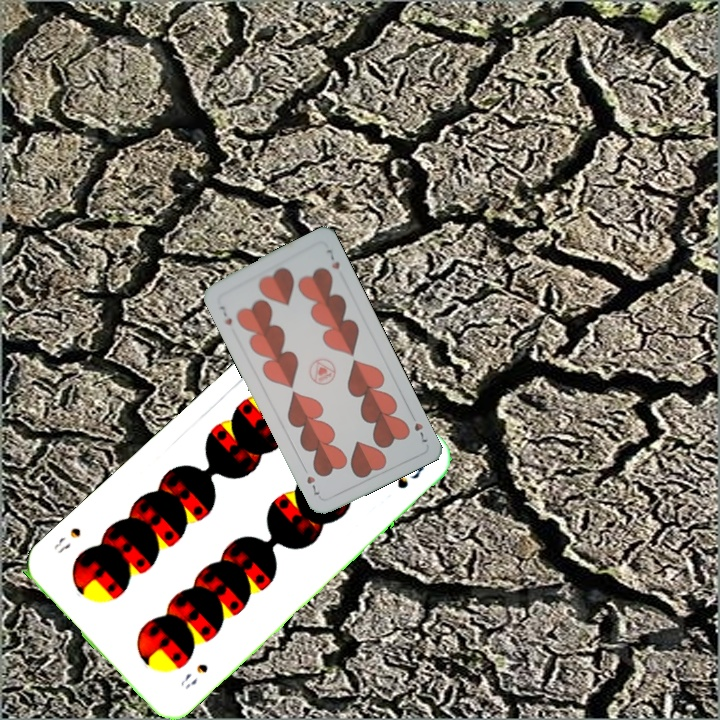H7: (406, 409, 430, 445), (216, 302, 235, 328)
S8: (176, 659, 211, 692)
